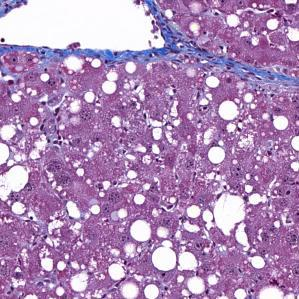fibrosis: (169, 42, 274, 84)
